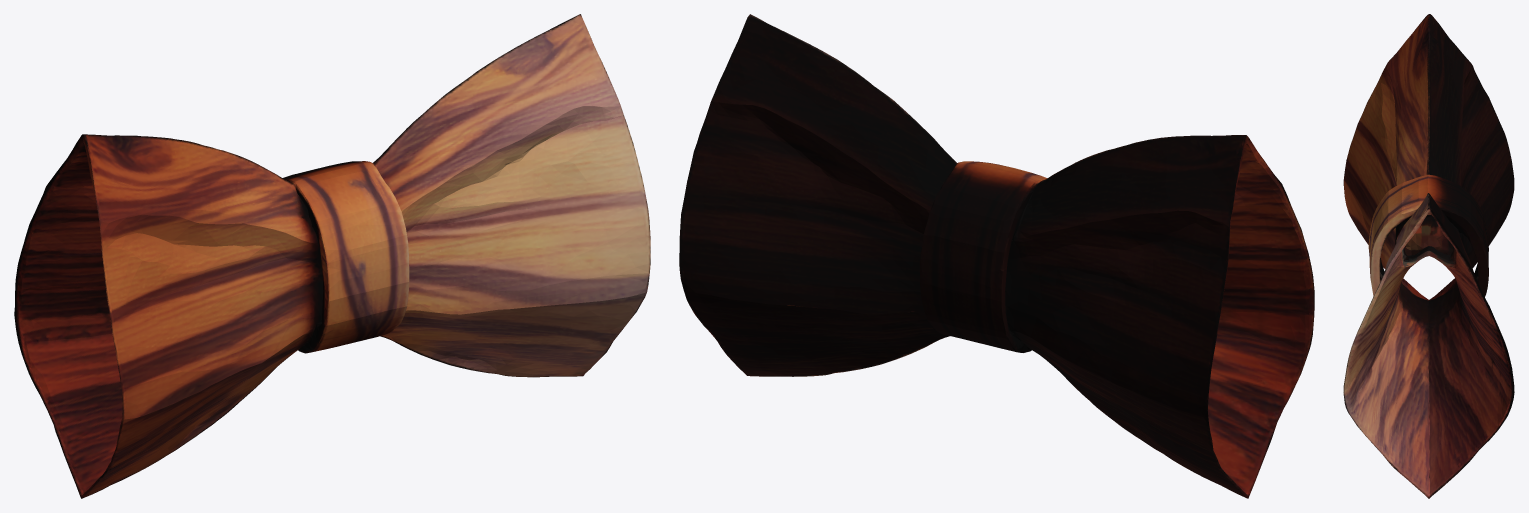
Rendered from wooden-bowtie-3d.jpeg.glb.
The picture shows the model from 3 angles, left to right: view 1: azimuth 30°, elevation 25°; view 2: azimuth 150°, elevation 25°; view 3: azimuth 270°, elevation 25°; orthographic projection. The views are drawn at different scales.
Visible parts, largest first — view 1: world; view 2: world; view 3: world.
Boxes of the visible parts, x1,y1,x2,y2 form: world: [14, 14, 650, 498]; world: [679, 14, 1314, 498]; world: [1343, 14, 1514, 498].
Bounding box in the file's own units: 0.9979 × 0.6485 × 0.346.
1 material, 1 textured.
